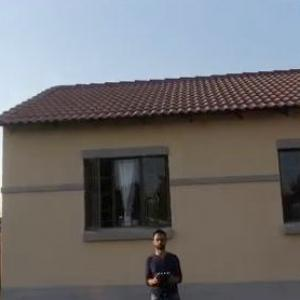follow: (141, 218, 190, 299)
